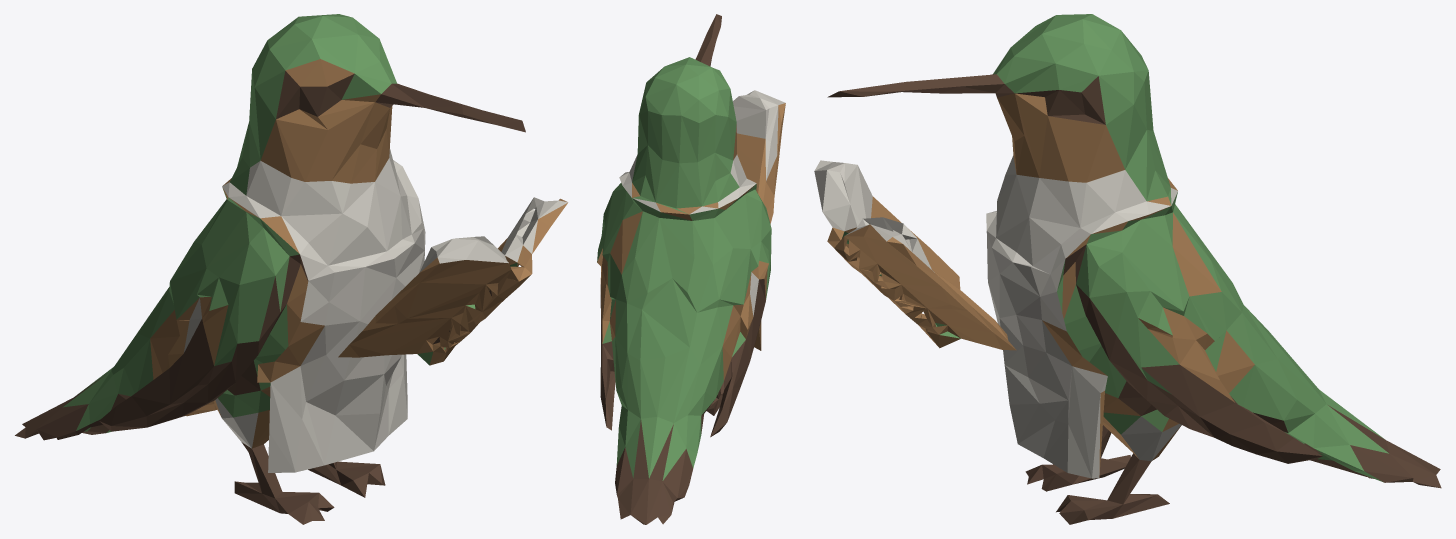
3 views of the same model, side by side, from view 1: azimuth 30°, elevation 25°; view 2: azimuth 150°, elevation 25°; view 3: azimuth 270°, elevation 25° (orthographic). The views are drawn at different scales.
Size of the model in its own units: 0.5031 by 0.8622 by 0.9555.
